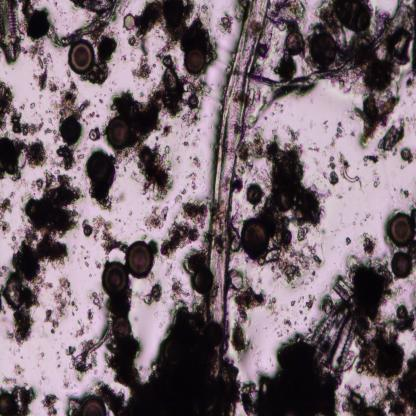Background material: (2, 171, 82, 343), (128, 314, 237, 414), (269, 139, 323, 283), (240, 339, 341, 415), (333, 258, 397, 325), (135, 0, 212, 50), (356, 324, 407, 380), (260, 1, 304, 65), (354, 90, 402, 144), (113, 93, 163, 144), (0, 80, 45, 136), (131, 141, 174, 198), (105, 337, 141, 397), (45, 275, 79, 336), (0, 136, 46, 180), (230, 269, 269, 317), (342, 383, 392, 416), (393, 351, 416, 416), (0, 376, 37, 416), (160, 222, 202, 256), (92, 216, 129, 254), (376, 119, 410, 159), (181, 75, 209, 123), (90, 382, 127, 415), (154, 82, 184, 120), (94, 36, 117, 85), (237, 129, 268, 164), (60, 81, 90, 117), (402, 2, 416, 78), (22, 2, 49, 39), (392, 302, 416, 340), (228, 320, 253, 356), (88, 180, 115, 213), (180, 200, 207, 228), (144, 202, 169, 231), (156, 36, 178, 67), (130, 56, 154, 83), (126, 32, 151, 57), (340, 152, 360, 182), (141, 281, 162, 309), (203, 30, 217, 71), (166, 280, 191, 302), (0, 194, 13, 236), (56, 146, 76, 172), (360, 230, 378, 257), (22, 39, 45, 59), (216, 10, 235, 34), (32, 69, 49, 93), (42, 391, 58, 415), (329, 155, 340, 188), (331, 122, 344, 148), (400, 147, 416, 167), (45, 128, 61, 146), (285, 124, 301, 142), (45, 100, 60, 119), (362, 151, 378, 167), (66, 397, 80, 415), (186, 171, 197, 192), (82, 218, 93, 239), (90, 291, 102, 309), (370, 168, 380, 189), (49, 78, 60, 95), (38, 54, 51, 68), (304, 293, 316, 308), (404, 77, 416, 92), (190, 155, 202, 168), (162, 123, 173, 137), (92, 257, 103, 271), (14, 363, 25, 377), (85, 308, 94, 324), (399, 186, 410, 198), (60, 378, 74, 387), (283, 318, 292, 328), (344, 236, 352, 247), (174, 195, 183, 204), (37, 347, 46, 356), (29, 100, 36, 110)
Cellulose filter fibre: (248, 0, 402, 89), (65, 320, 111, 377), (46, 12, 115, 48)
Diatom: (311, 300, 358, 382), (0, 0, 23, 65), (387, 211, 415, 247), (127, 240, 153, 277), (102, 260, 128, 297), (242, 220, 268, 256), (68, 38, 94, 74), (310, 33, 337, 67), (106, 115, 130, 149), (86, 151, 111, 182), (73, 0, 113, 16), (184, 46, 206, 74), (392, 251, 413, 280), (60, 116, 81, 145), (194, 267, 213, 295), (80, 396, 107, 415), (285, 31, 304, 56), (113, 319, 130, 339), (164, 67, 177, 92), (246, 185, 262, 204), (123, 14, 136, 32), (89, 130, 97, 142)
Microfibre: (202, 0, 269, 387)
